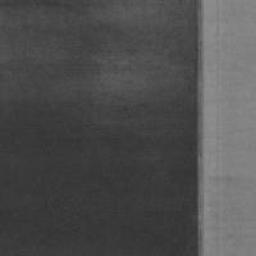Welding line: (195, 0, 206, 256)
